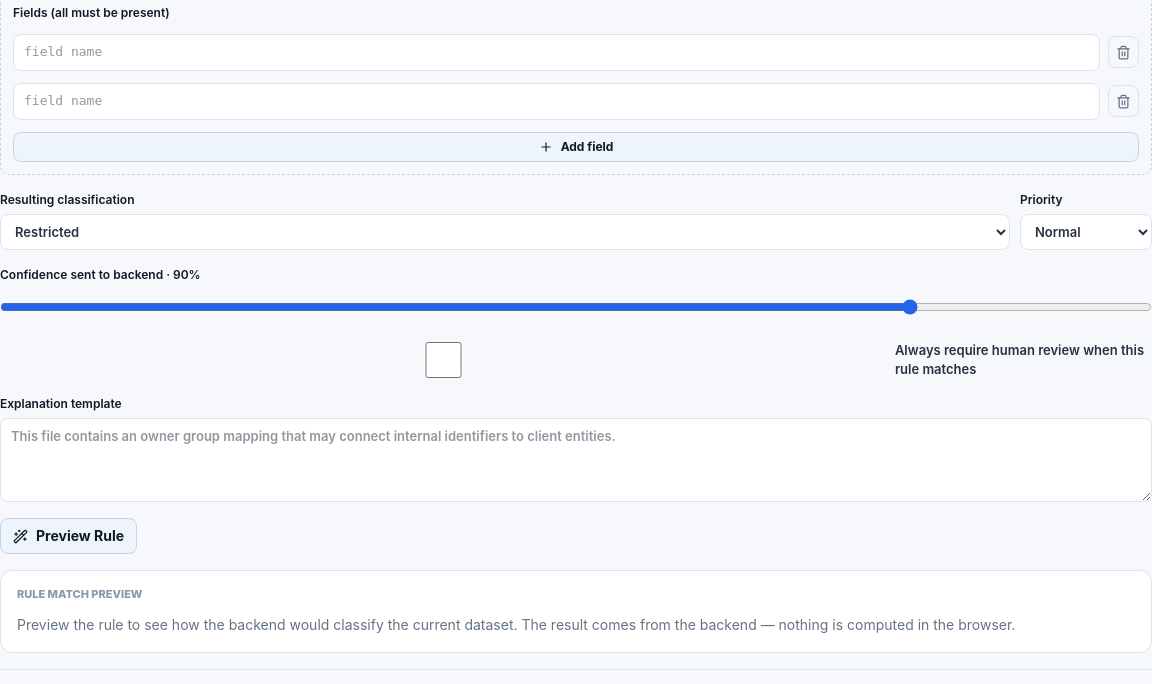
RuleForm › does not request a preview when validation fails
(page scrolled)
Click the button "Preview Rule" at {"x": 69, "y": 536}, box [0,518,137,554]
(page scrolled)
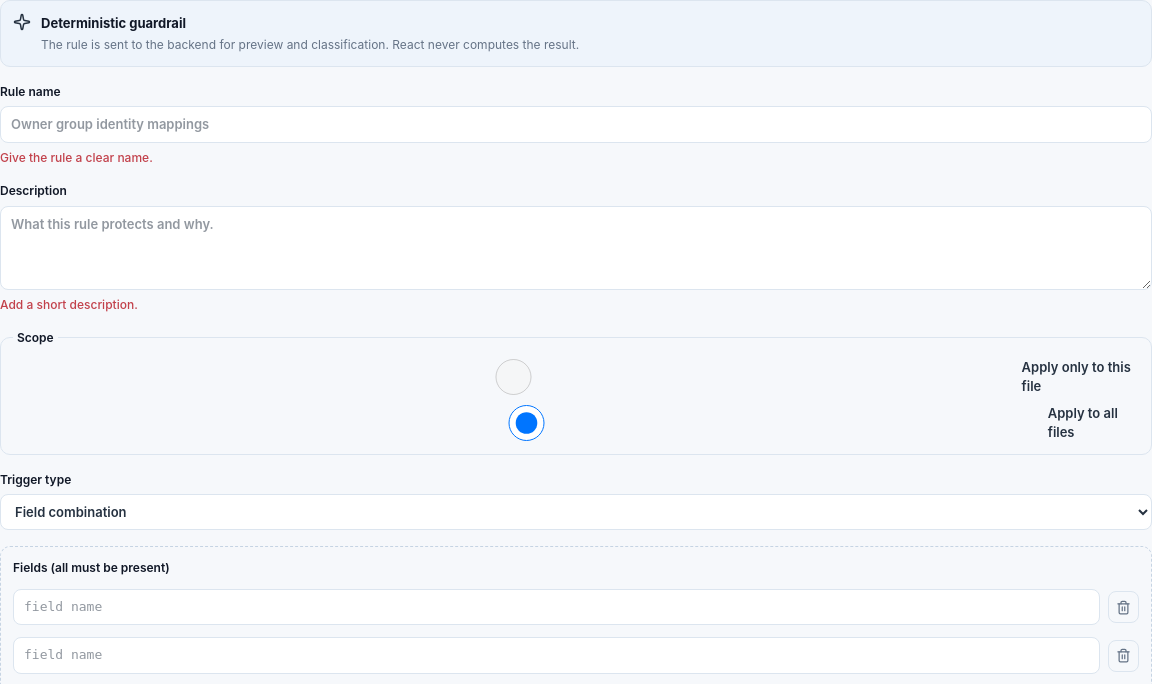
Expected: the text "Give the rule a clear name." is shown, [0,150,153,165]
